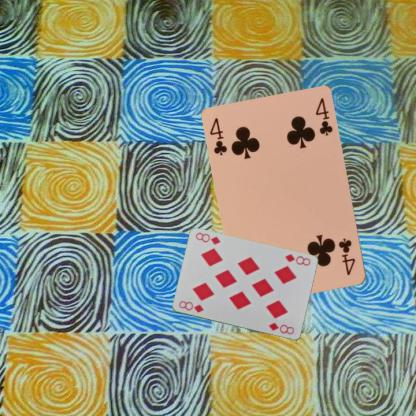4c: (207, 115, 229, 157), (336, 236, 357, 276)
8d: (176, 298, 205, 314), (282, 251, 311, 267)
